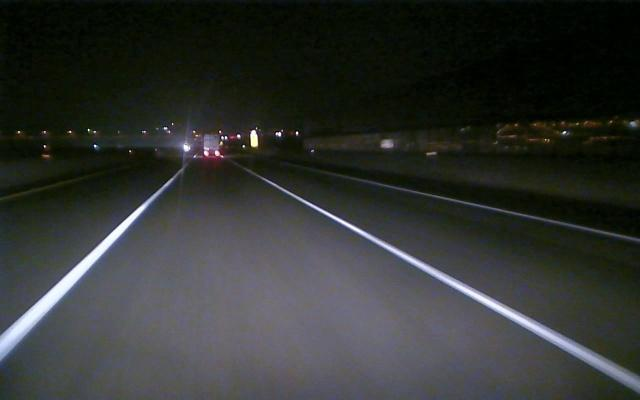lane: (261, 179, 638, 390), (4, 183, 168, 358), (372, 181, 640, 243)
